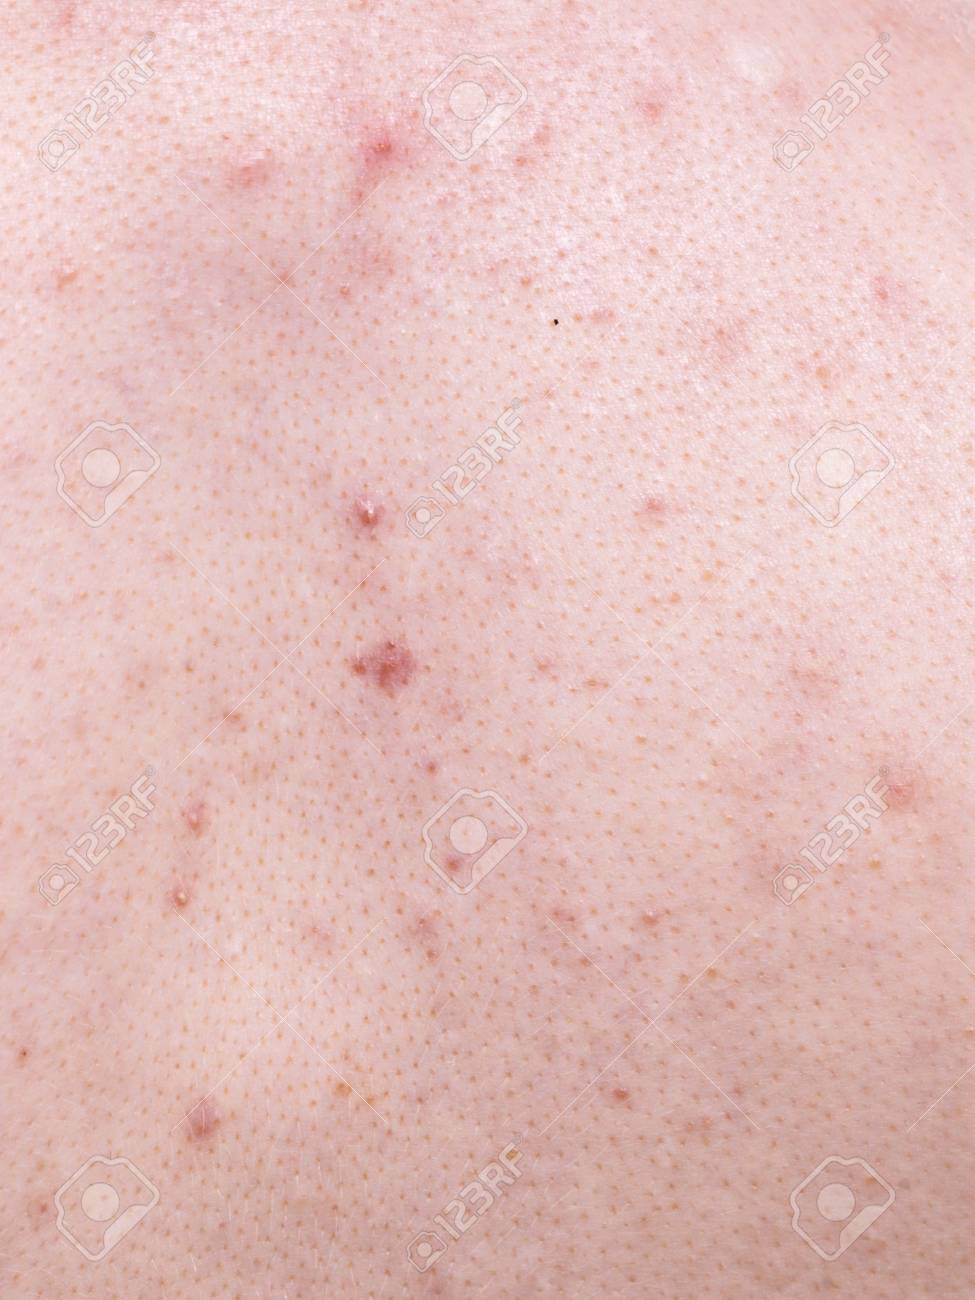acene: (59, 90, 918, 1220)
